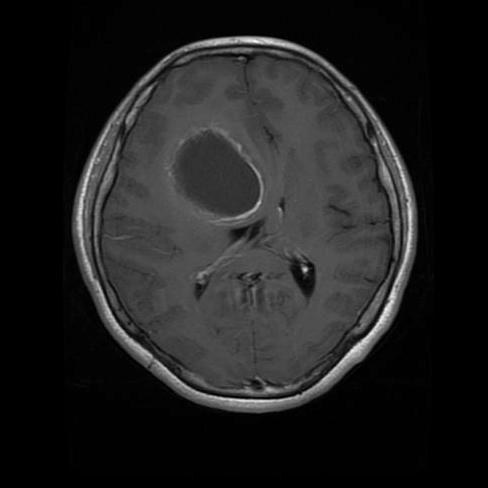Tumour-Glioma: (170, 117, 281, 228)
